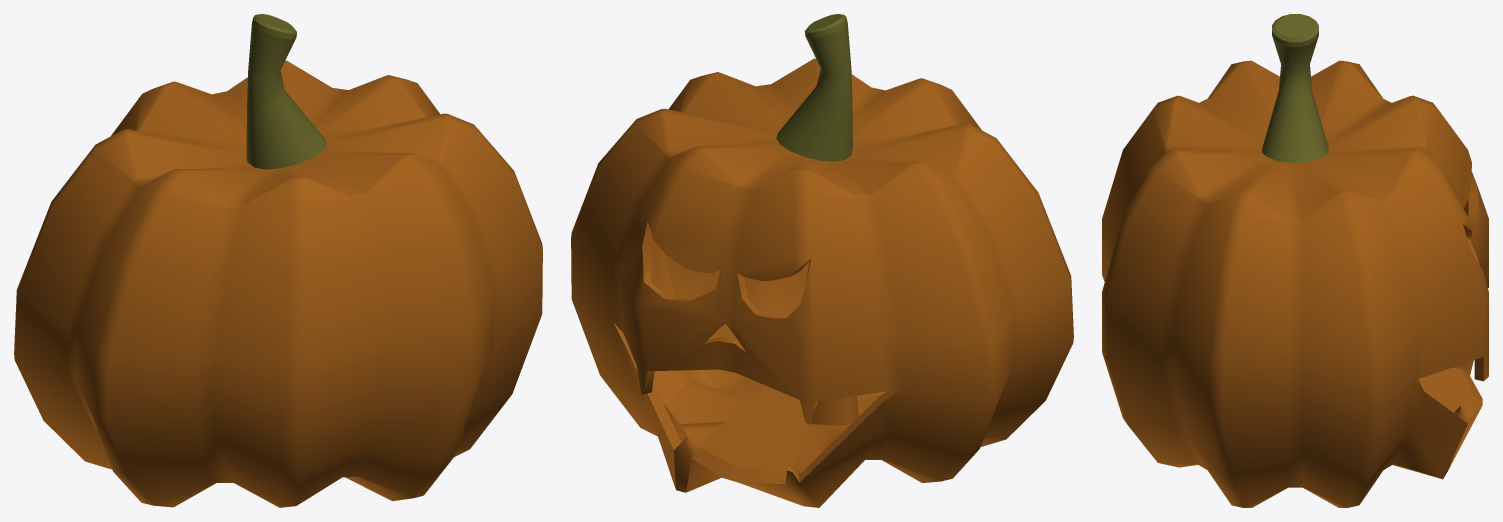
The model's file is Pumpkin.fbx.
3 views of the same model, side by side, from view 1: azimuth 30°, elevation 25°; view 2: azimuth 150°, elevation 25°; view 3: azimuth 270°, elevation 25° (orthographic). The views are drawn at different scales.
Parts seen in each view (by area): view 1: Cylinder; view 2: Cylinder; view 3: Cylinder.
Part boxes in pixels (x1=…): Cylinder: x1=14, y1=14, x2=542, y2=507; Cylinder: x1=571, y1=14, x2=1073, y2=507; Cylinder: x1=1102, y1=14, x2=1488, y2=507.
Size of the model in its own units: 1376 by 1346 by 1112.
